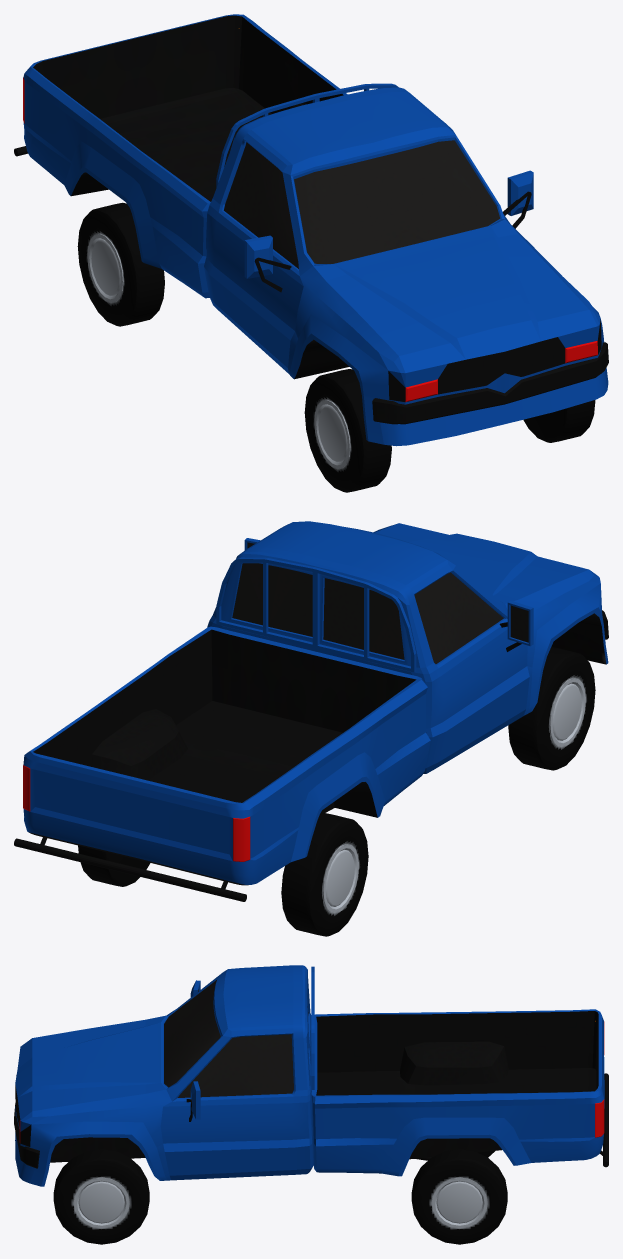
Rendered from toyot.fbx.
3 renders of one model, top to bottom at view 1: azimuth 30°, elevation 25°; view 2: azimuth 150°, elevation 25°; view 3: azimuth 270°, elevation 25°, orthographic. The views are drawn at different scales.
Parts seen in each view (by area): view 1: polySurface7z, polySurface1z, polySurface2z, polySurface4z; view 2: polySurface7z, polySurface1z, polySurface2z, polySurface3z; view 3: polySurface7z, polySurface3z, polySurface4z.
Boxes of the visible parts, <box> form: polySurface7z: <box>14,14,608,446</box>; polySurface1z: <box>77,202,164,326</box>; polySurface2z: <box>304,369,391,492</box>; polySurface4z: <box>523,400,595,442</box>; polySurface7z: <box>14,521,608,901</box>; polySurface1z: <box>281,813,368,936</box>; polySurface2z: <box>508,647,595,770</box>; polySurface3z: <box>78,845,150,886</box>; polySurface7z: <box>14,965,608,1186</box>; polySurface3z: <box>411,1149,507,1244</box>; polySurface4z: <box>53,1149,149,1244</box>.
Bounding box in the file's own units: 15.97 × 14.28 × 36.37.
